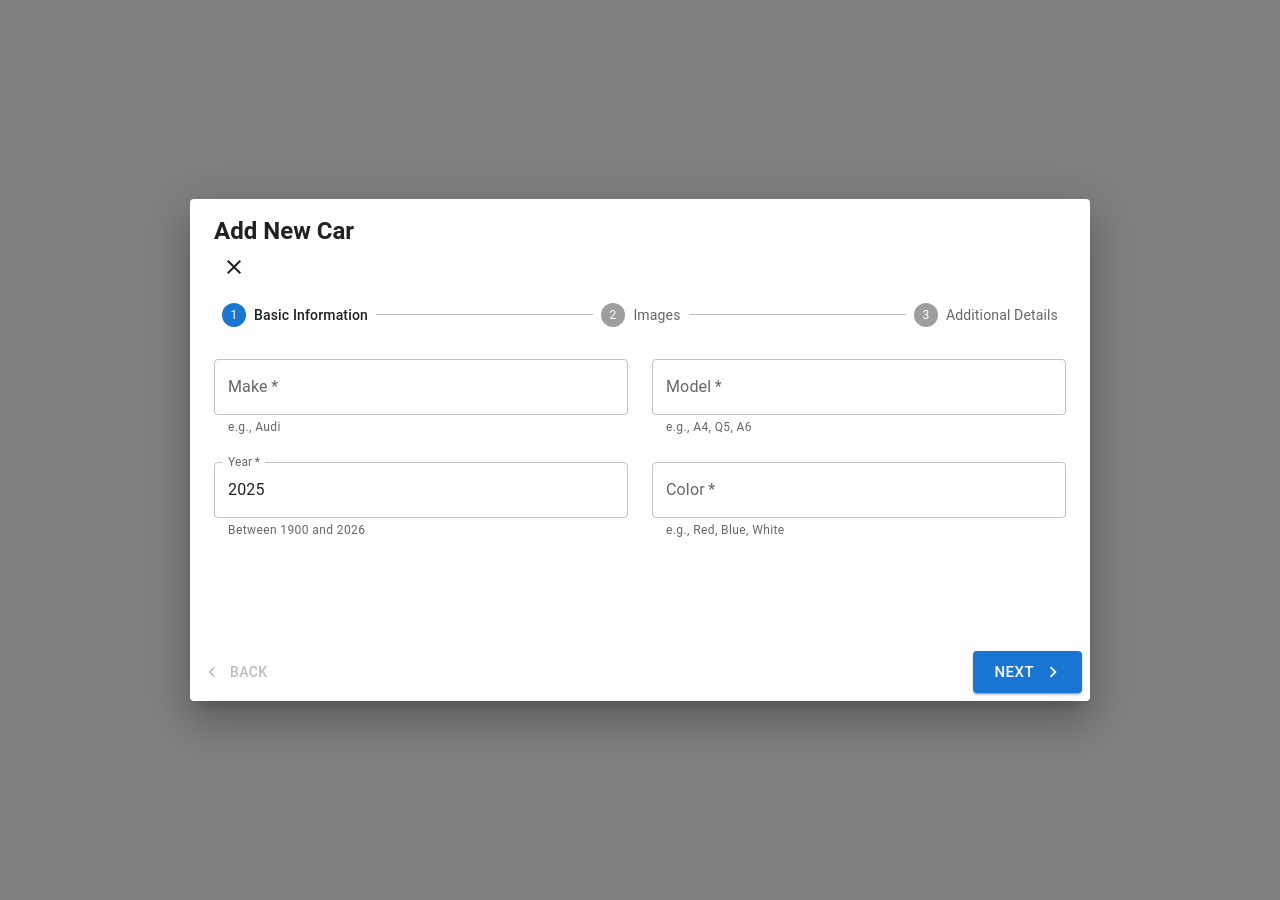
Test: AddCarModal › Navigation › navigates to the next step when valid data is entered
The width and height of the screenshot is (1280, 900).
Fill required fields for step 0
Type "Audi" into the field labelled "Make *".
click(421, 387); type("Audi")  # box [214,359,628,415]
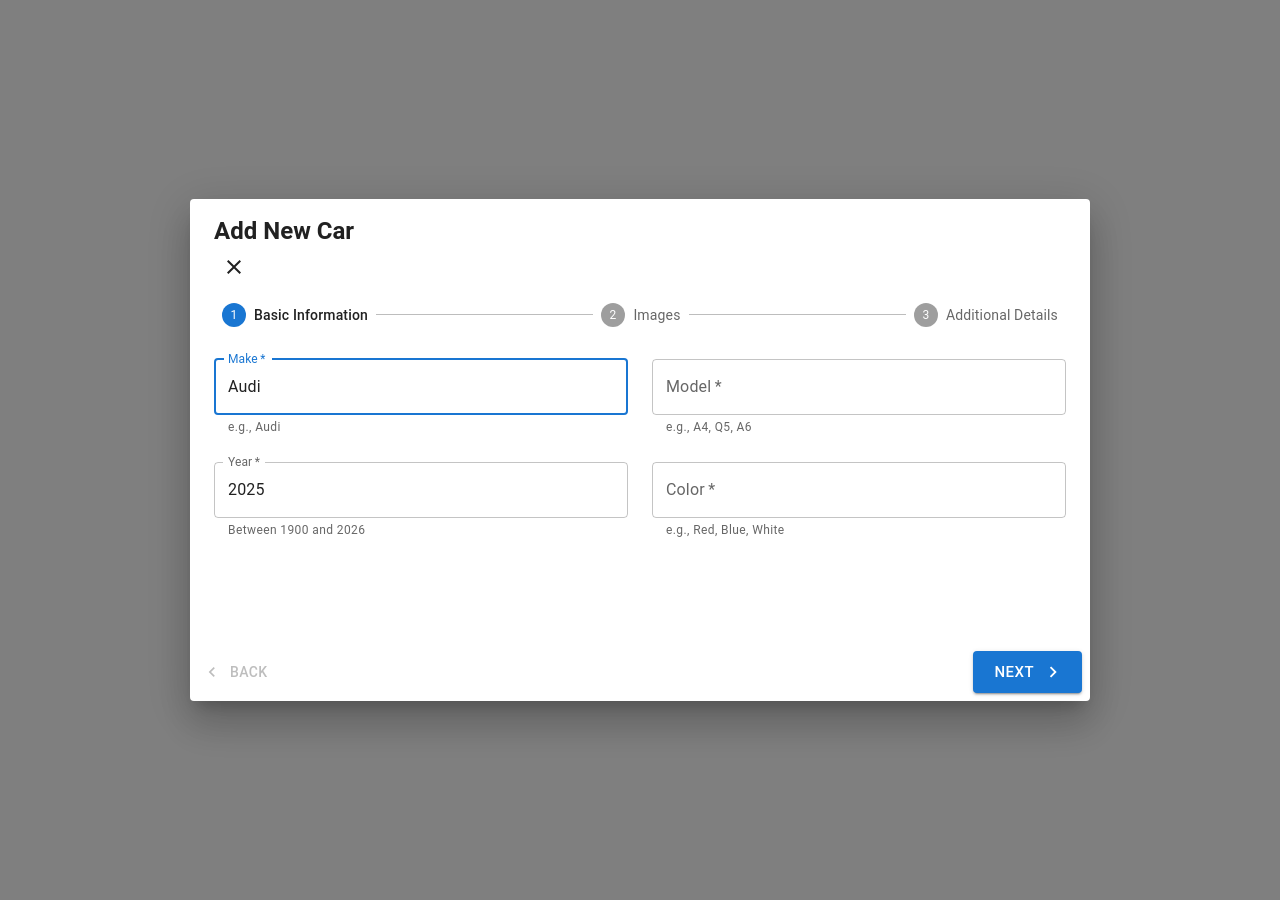
Type "Q5" into the field labelled "Model *".
click(859, 387); type("Q5")  # box [652,359,1066,415]
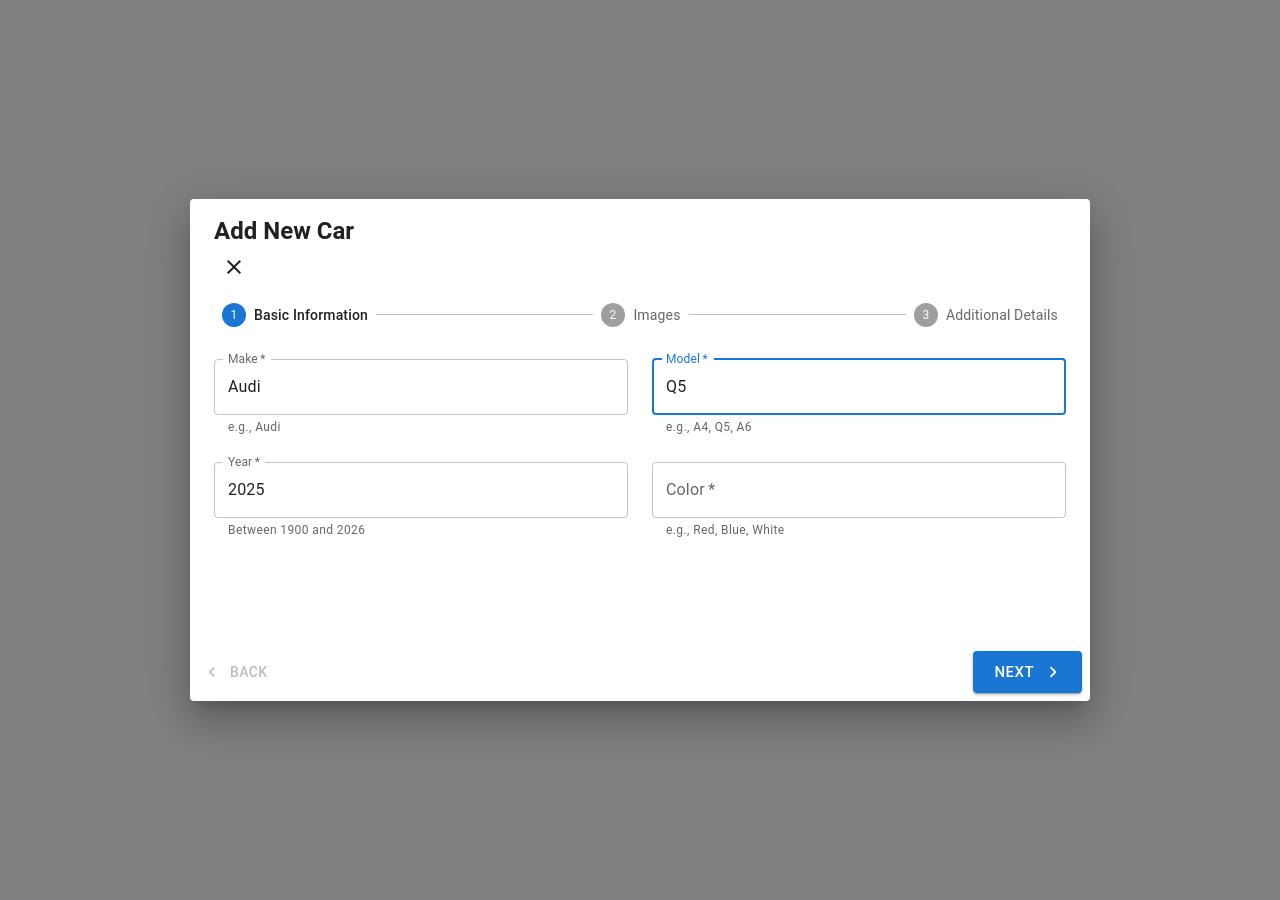
Replace the text in the number field labelled "Year *" with "2023" at x=421, y=490, box [214,462,628,518]
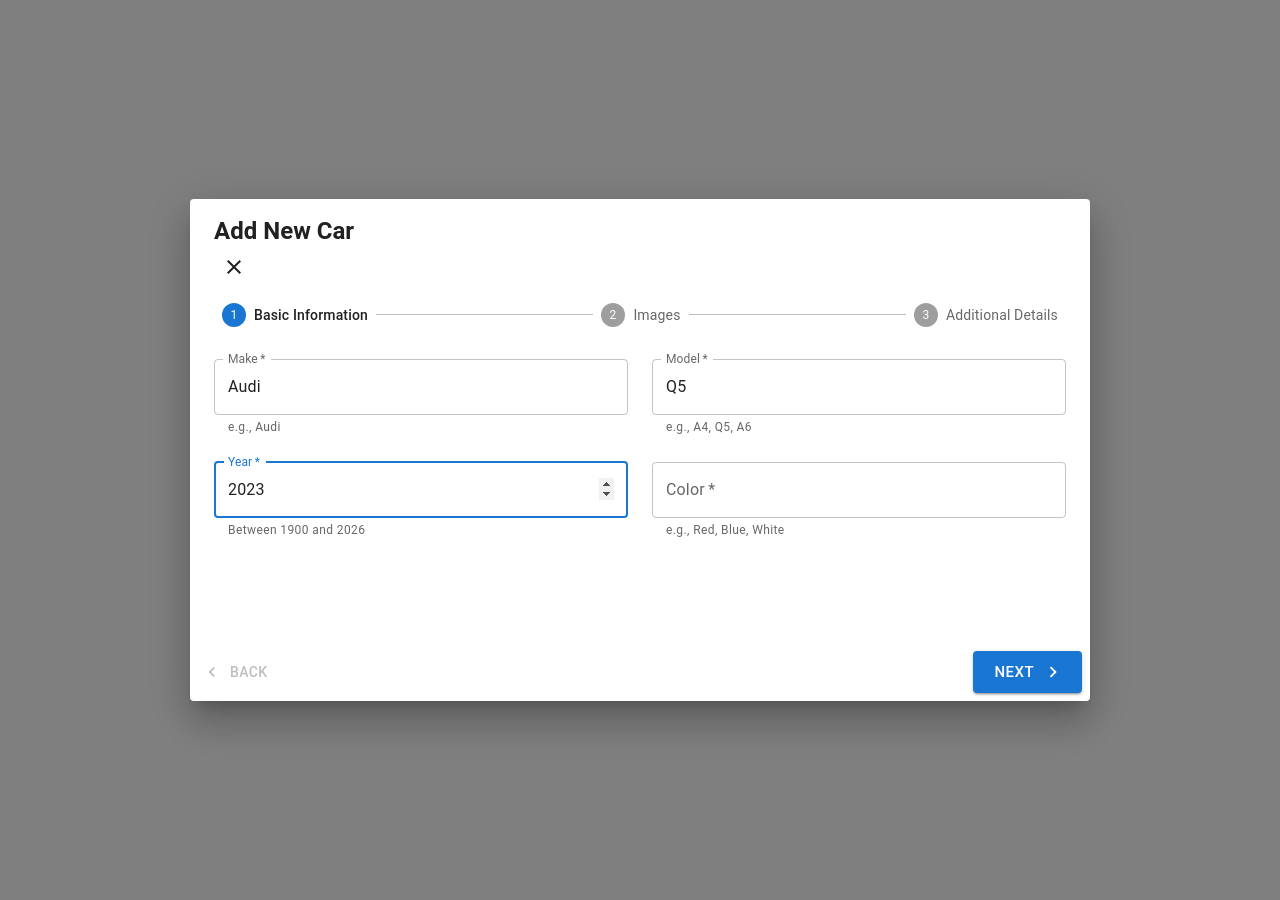
Type "Blue" into the field labelled "Color *".
click(859, 490); type("Blue")  # box [652,462,1066,518]
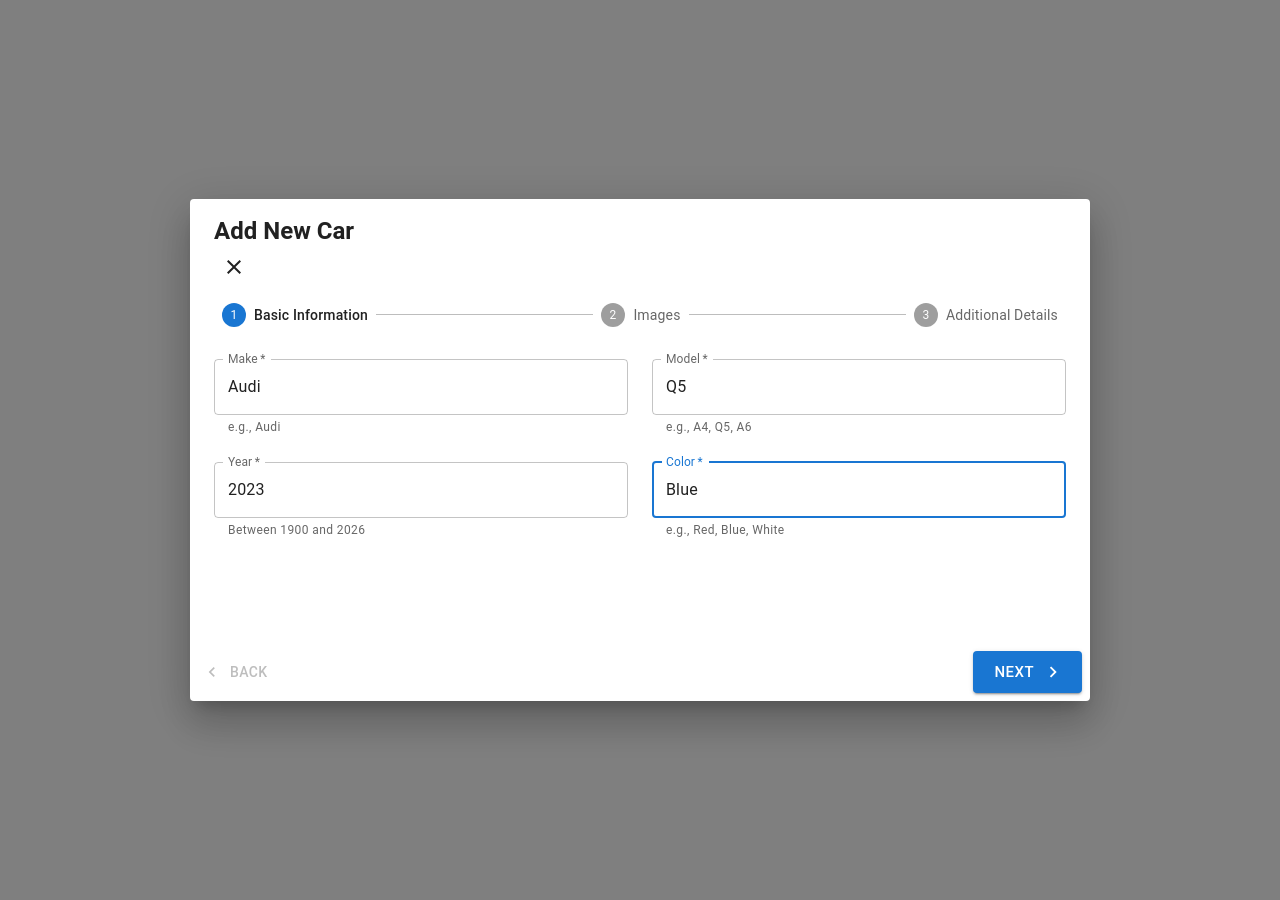
Click the button "Next".
click(1027, 672)  # box [972,651,1082,693]
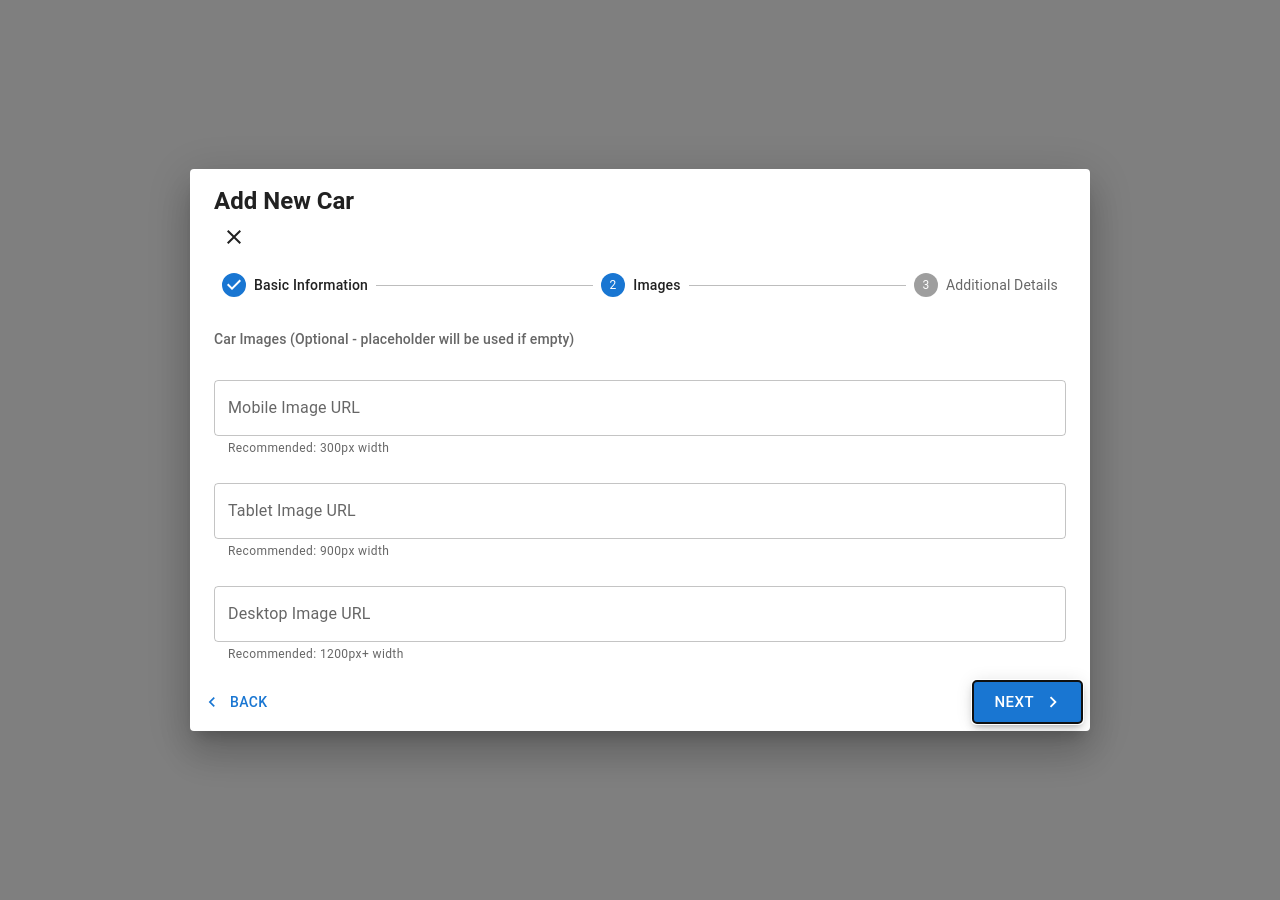
Check: the heading "Car Images (Optional - placeholder will be used if empty)" is shown, box [214,331,574,347]
Check: the field labelled "Mobile Image URL" is shown, box [214,380,1066,436]
